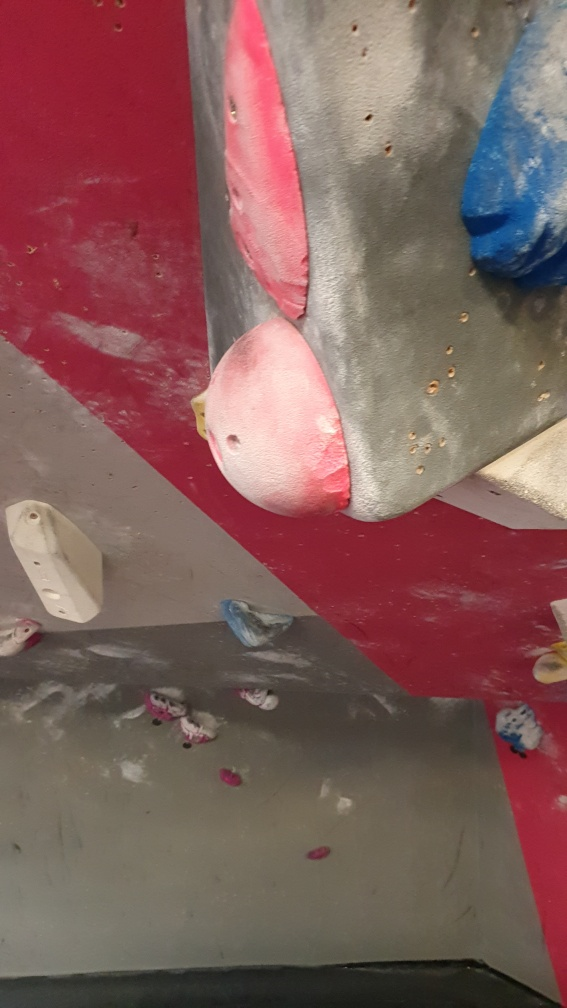Jug: (219, 591, 296, 650)
Pinch: (1, 495, 107, 628)
Sloper: (203, 315, 359, 519)
